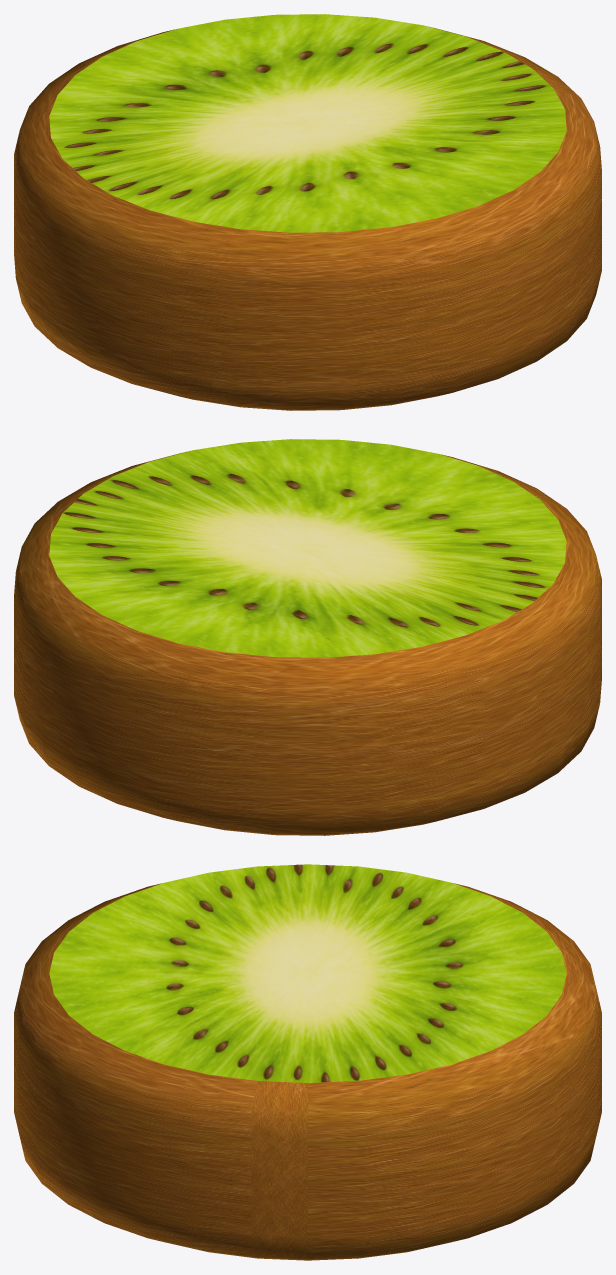
File: kiwi_slice-67b8hk1o.glb
3 views of the same model, one above another, from view 1: azimuth 30°, elevation 25°; view 2: azimuth 150°, elevation 25°; view 3: azimuth 270°, elevation 25° (orthographic).
Parts seen in each view (by area): view 1: FLC_kiwi_slice; view 2: FLC_kiwi_slice; view 3: FLC_kiwi_slice.
Boxes of the visible parts, box(x1,y1,x2,y2) form: FLC_kiwi_slice: box(14, 14, 601, 410); FLC_kiwi_slice: box(14, 439, 601, 835); FLC_kiwi_slice: box(14, 864, 601, 1260).
Bounding box in the file's own units: 0.24 × 0.08 × 0.24.
Materials: 1 (1 with a texture image).
